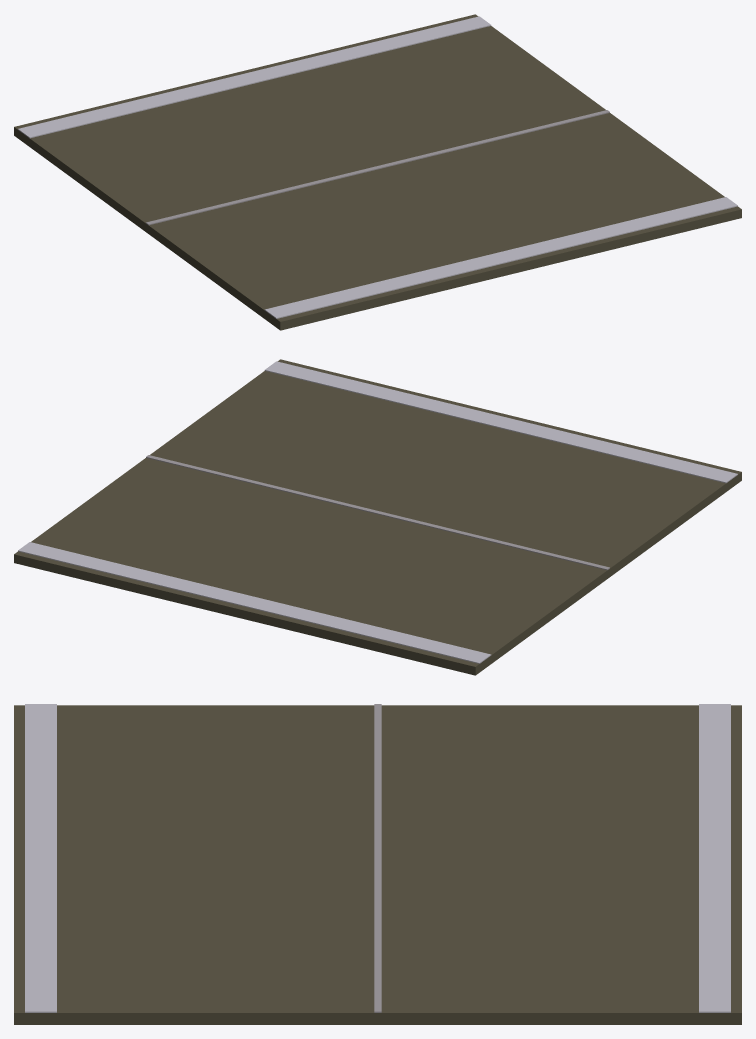
The model's file is Road.obj.
The picture shows the model from 3 angles, top to bottom: view 1: azimuth 30°, elevation 25°; view 2: azimuth 150°, elevation 25°; view 3: azimuth 270°, elevation 25°; orthographic projection. The views are drawn at different scales.
Visible parts, largest first — view 1: Road; view 2: Road; view 3: Road.
Part boxes in pixels (box(x1,y1,x2,y2)): Road: box(14, 14, 741, 330); Road: box(14, 359, 741, 675); Road: box(14, 704, 741, 1024).
Size of the model in its own units: 1 by 0.02 by 1.
